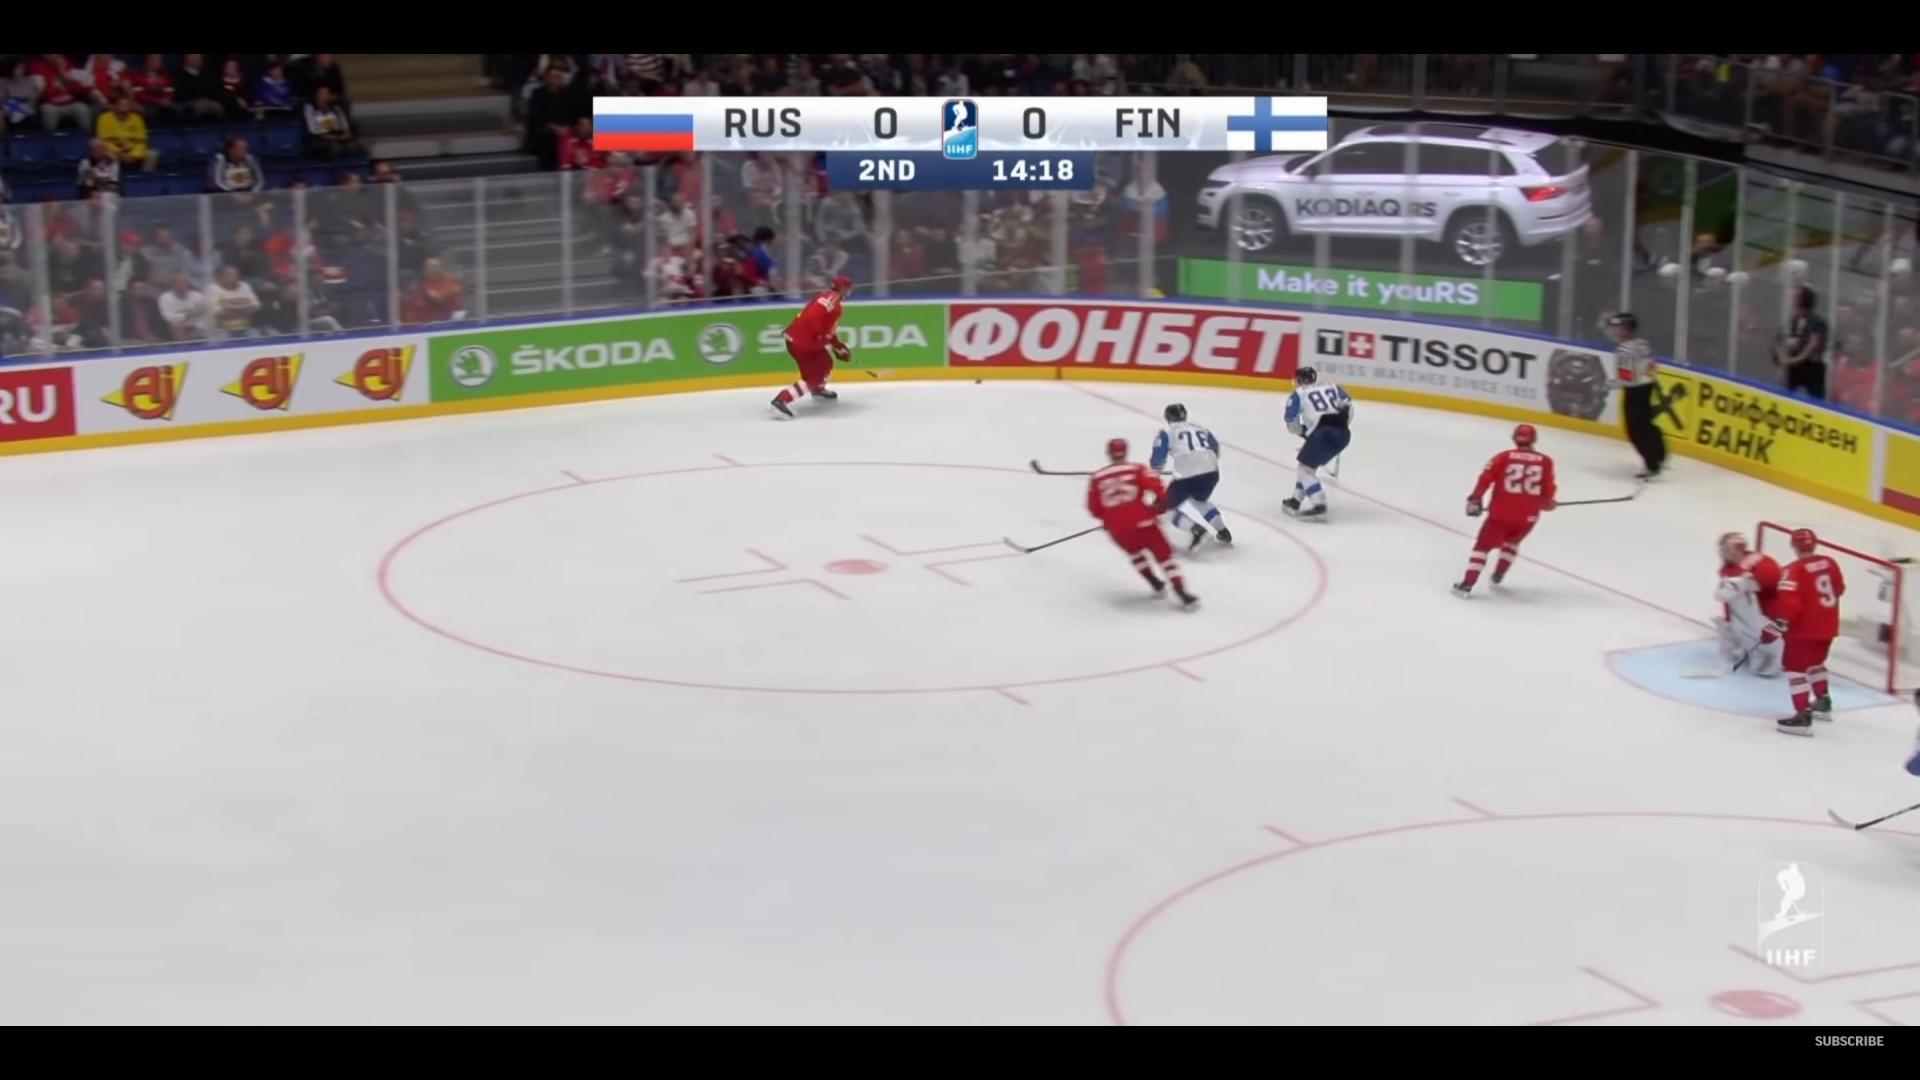puck: (973, 379, 982, 384)
